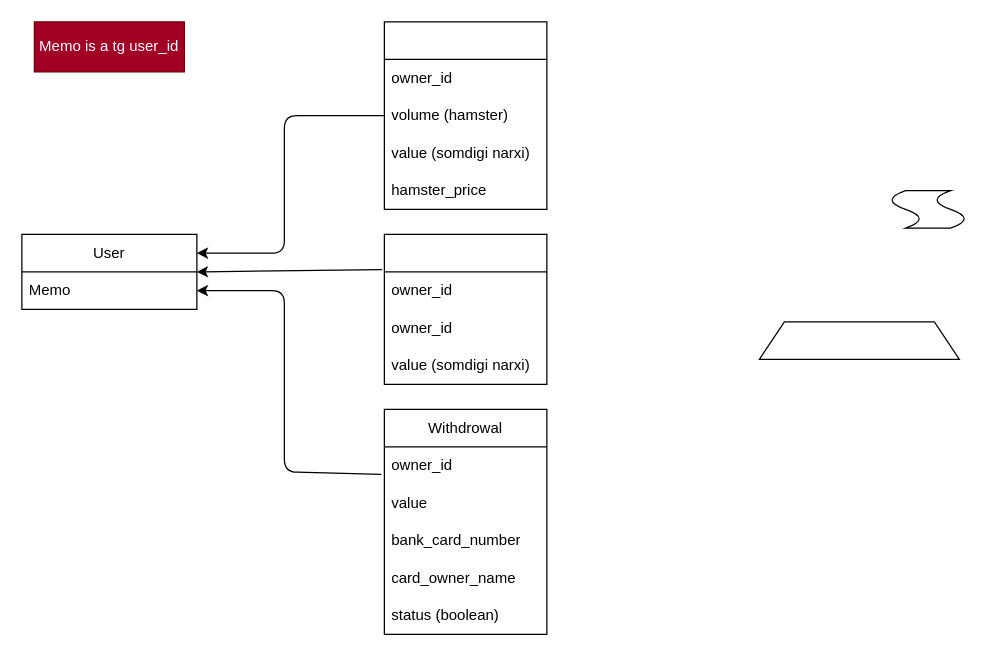
Image size: 988x656. Some labels were removed from this diagram. The box of each missing label's shape, as (x1, y1, x2, y2) in pixels:
Balance: (383, 233, 547, 384)
Transactions: (383, 21, 547, 209)
